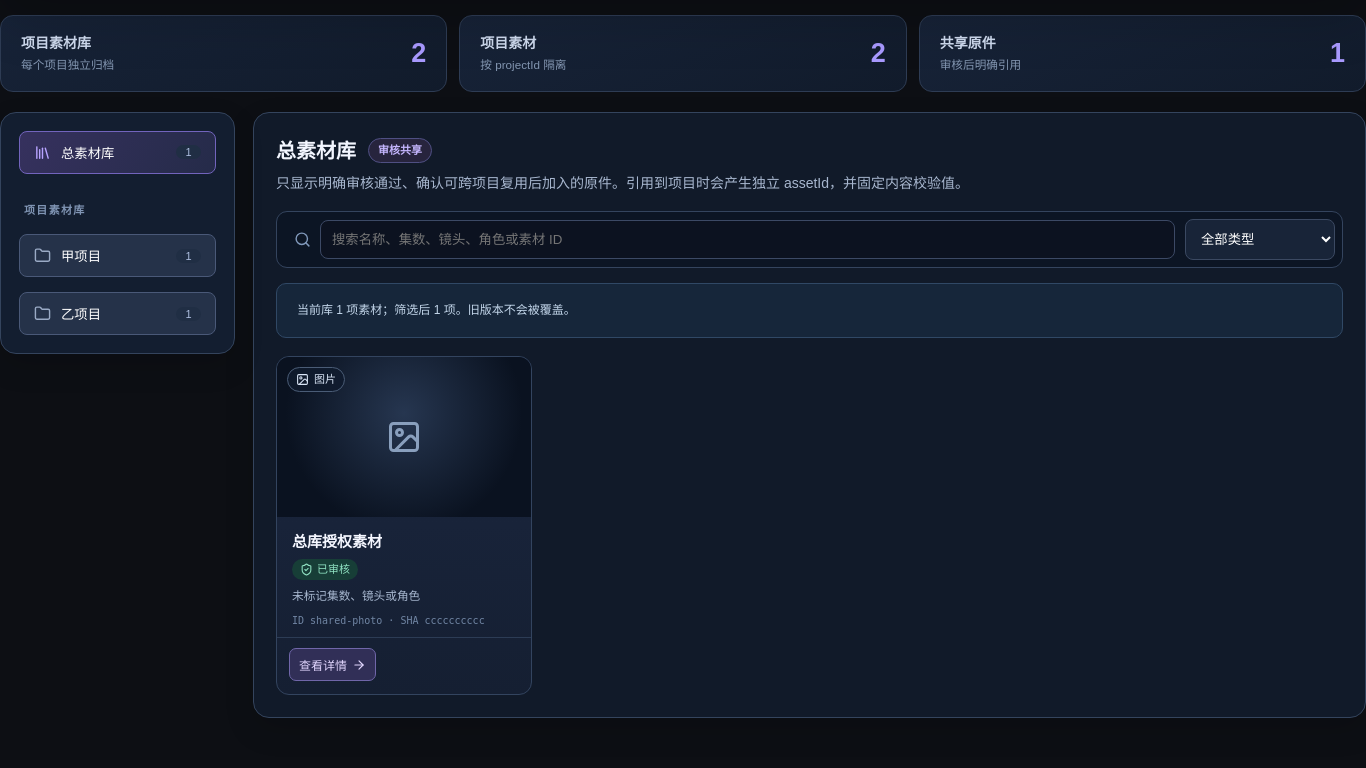
Test case: 分层素材中心 › 引用总库原件时明确指定目标项目并使用新的项目素材记录
The width and height of the screenshot is (1366, 768).
(page scrolled)
Expected: the heading "总库授权素材" is shown, [292,533,382,550]
Click the button "查看详情" at x=332, y=665, box [289,648,376,681]
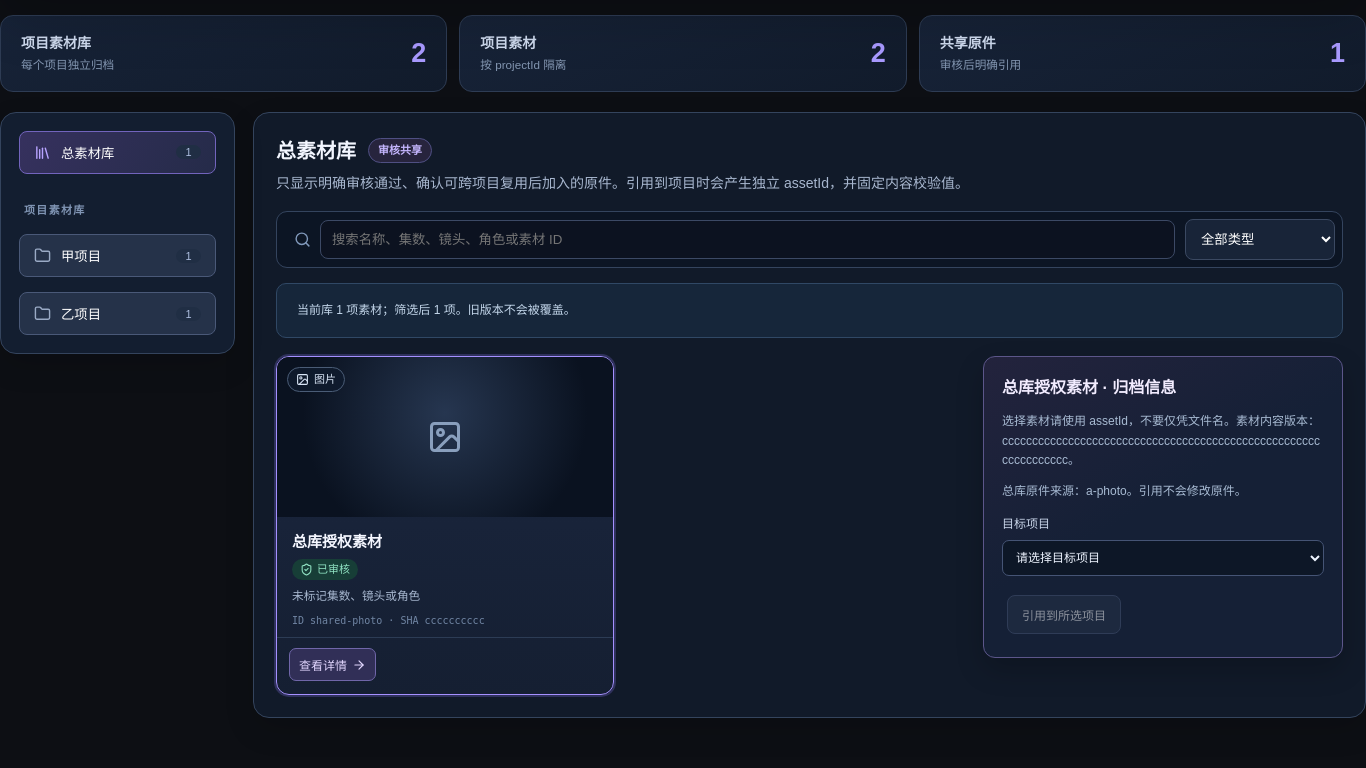
Select "乙项目" in the dropdown labelled "目标项目" at x=1163, y=558, box [1002,540,1324,576]
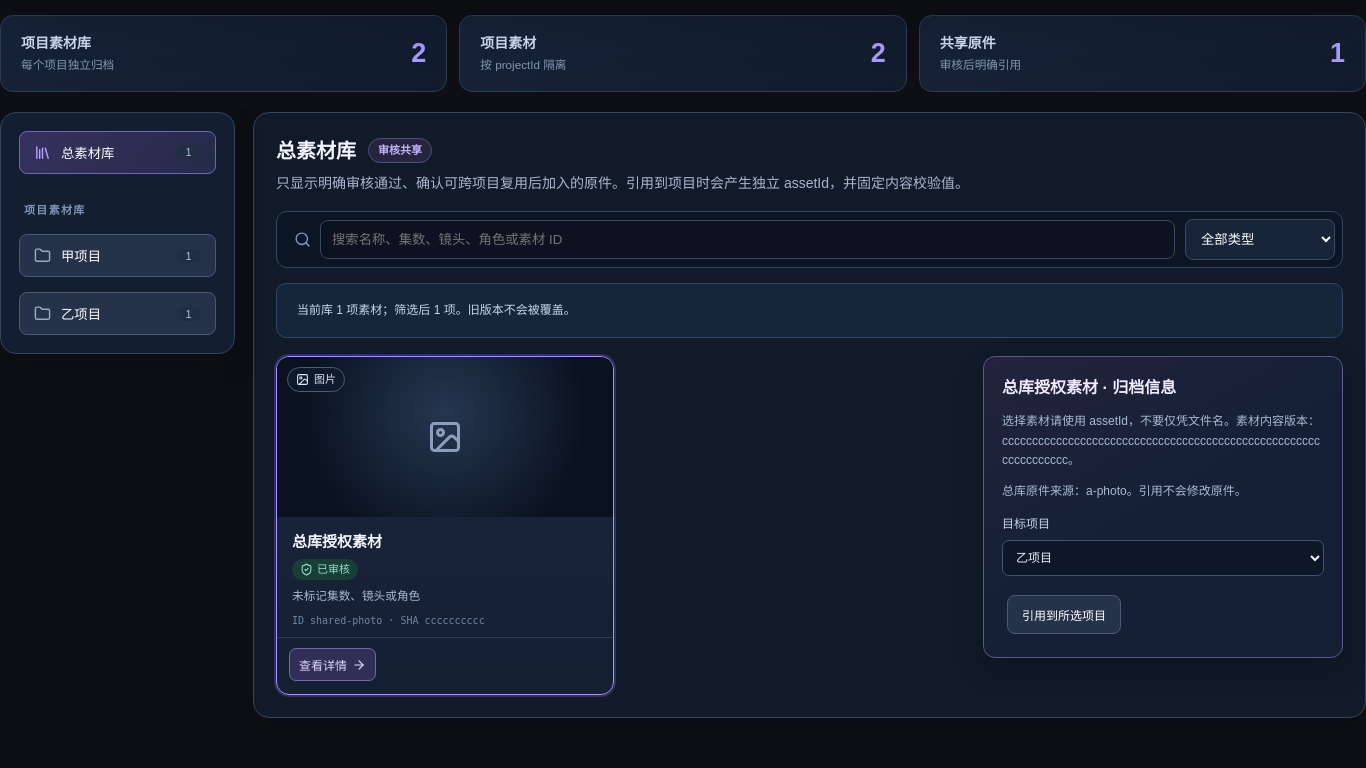
Click the button "引用到所选项目" at x=1064, y=615, box [1007,595,1121,634]
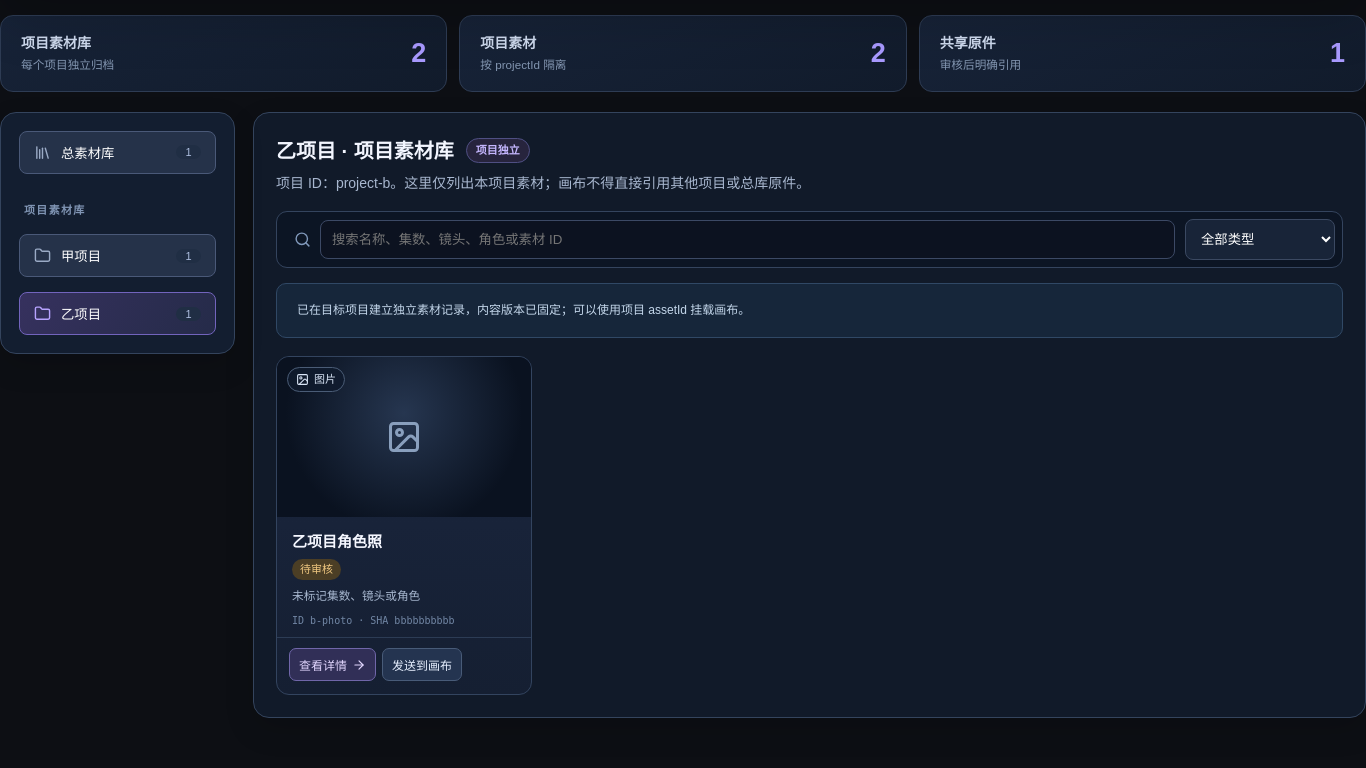
Expected: the text "已在目标项目建立独立素材记录，内容版本已固定；可以使用项目 assetId 挂载画布。" is shown, [276,283,1343,338]
